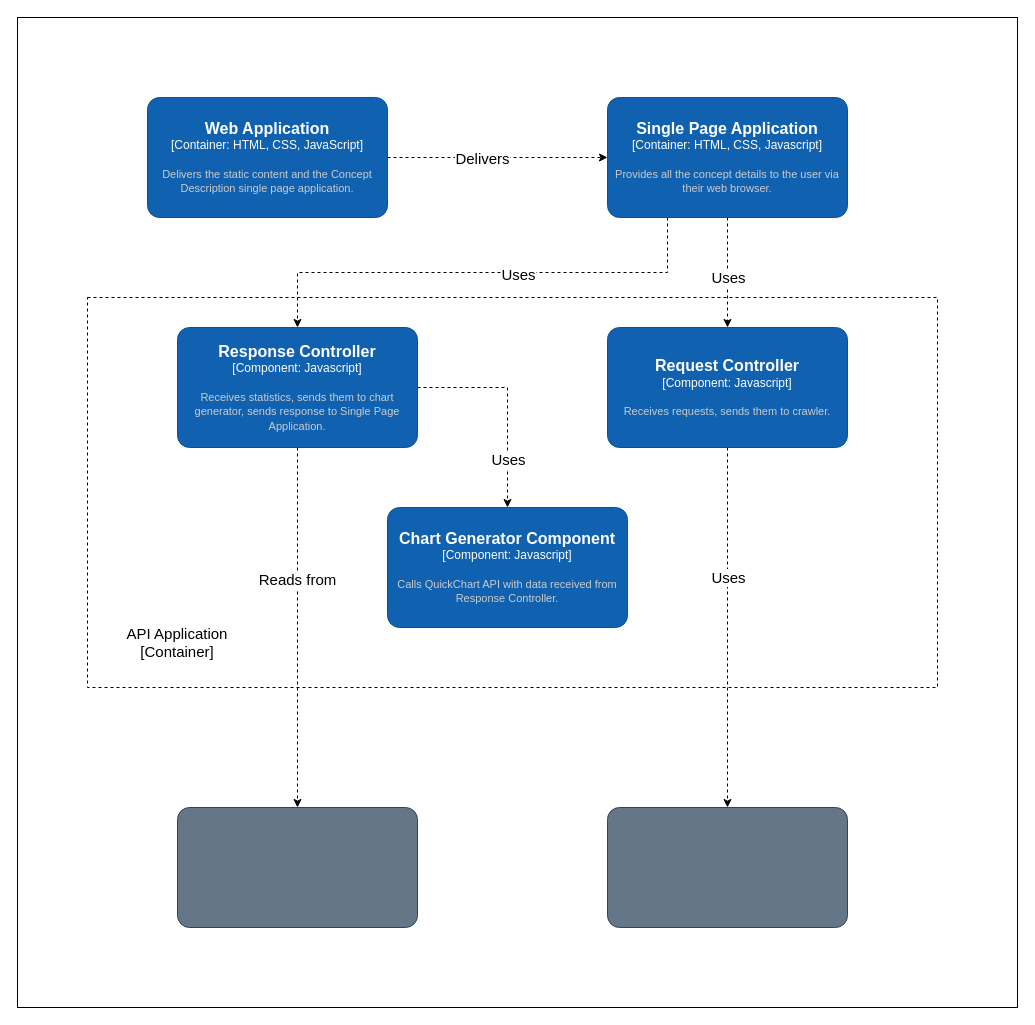
Image size: 1035x1025. Some labels were removed from this diagram. Here are the shapes that lost their labels. From the top down, the centre of each, then its label:
pixel 297 867: Statistics [Software System] Generates statistics based on the processed data.
pixel 727 867: Crawler [Software System] Extracts data from the Internet.
